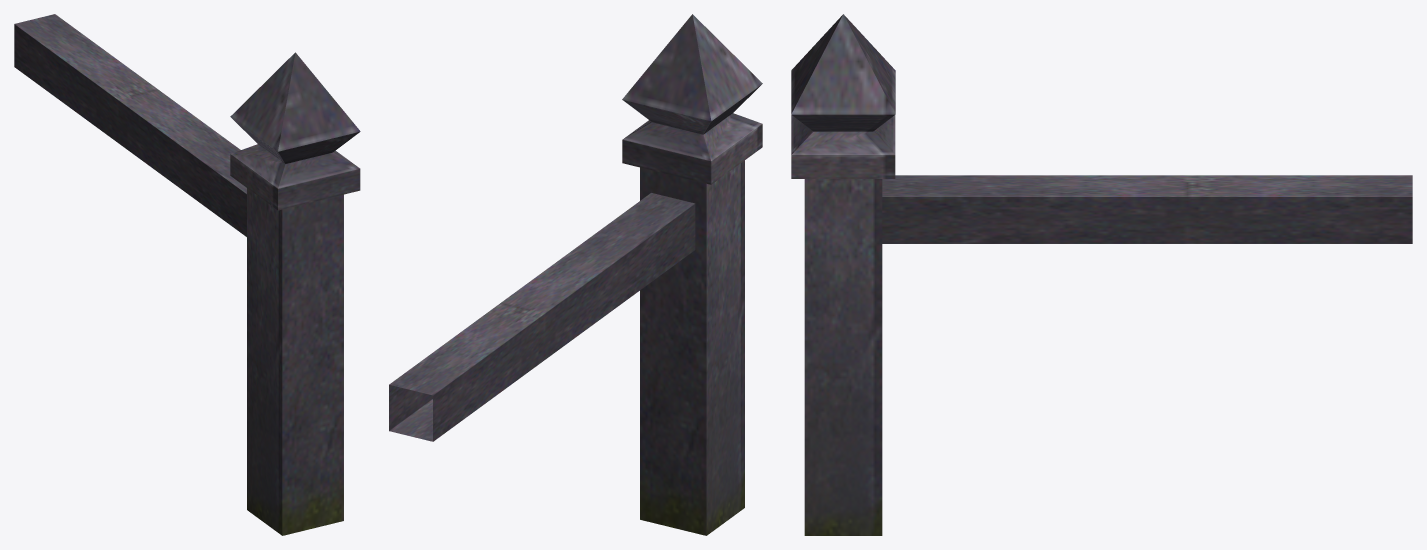
Rendered from yw_langhuanfudi_langan01.FBX.
3 renders of one model, left to right at view 1: azimuth 30°, elevation 25°; view 2: azimuth 150°, elevation 25°; view 3: azimuth 270°, elevation 25°, orthographic. The views are drawn at different scales.
Visible parts, largest first — view 1: yw_langhuanfudi_langan01; view 2: yw_langhuanfudi_langan01; view 3: yw_langhuanfudi_langan01.
Boxes of the visible parts, x1,y1,x2,y2 form: yw_langhuanfudi_langan01: (14,14,360,535); yw_langhuanfudi_langan01: (389,14,762,535); yw_langhuanfudi_langan01: (791,14,1412,535).
Size of the model in its own units: 19.59 by 105 by 117.
Materials: 1 (1 with a texture image).
